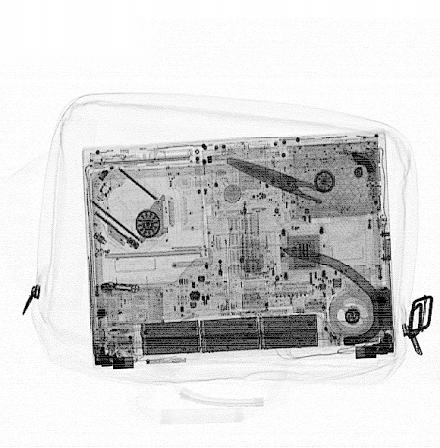Scissors: (222, 148, 377, 244)
